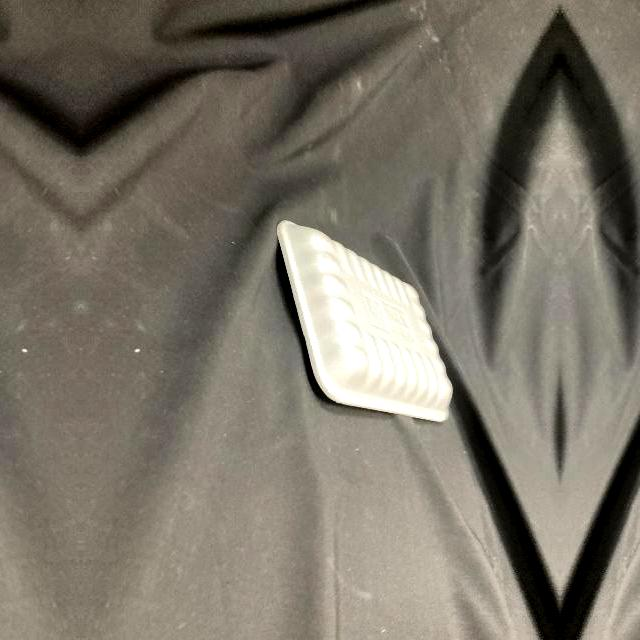Styrofoam: (276, 221, 452, 422), (276, 222, 452, 420)
